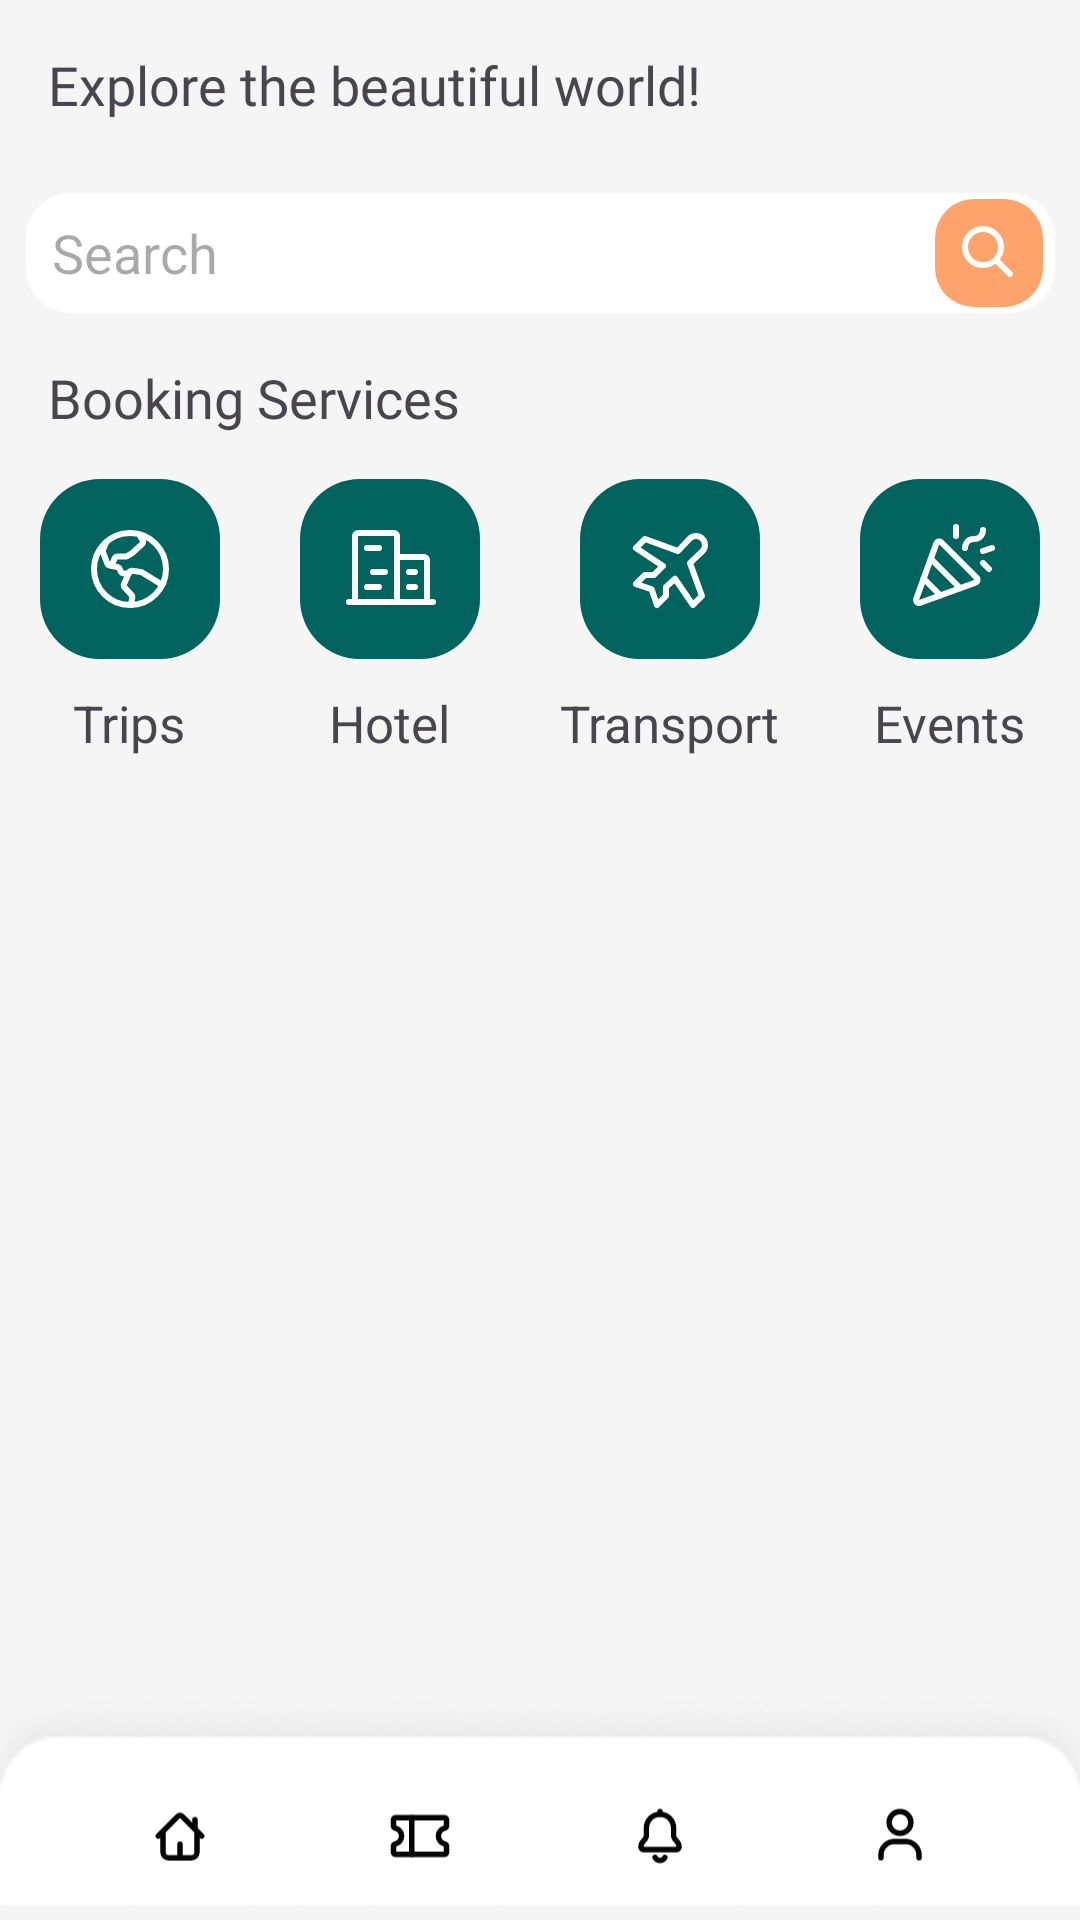

Named icons in this screenshot (1080w x 1920h) and their bounding boxes, (x1, y1, x2, y2):
account: (878, 1808, 922, 1861)
booking: (390, 1814, 450, 1858)
home: (155, 1812, 205, 1861)
magnify: (962, 226, 1013, 277)
notification: (638, 1808, 682, 1864)
